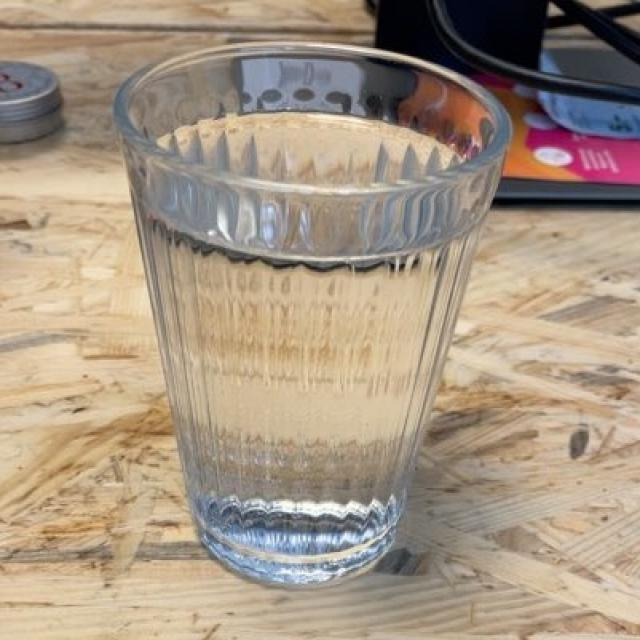water: (131, 110, 478, 570)
